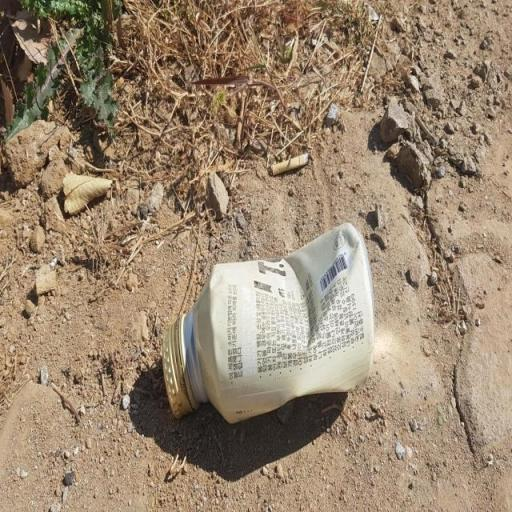metal: (137, 206, 381, 456)
